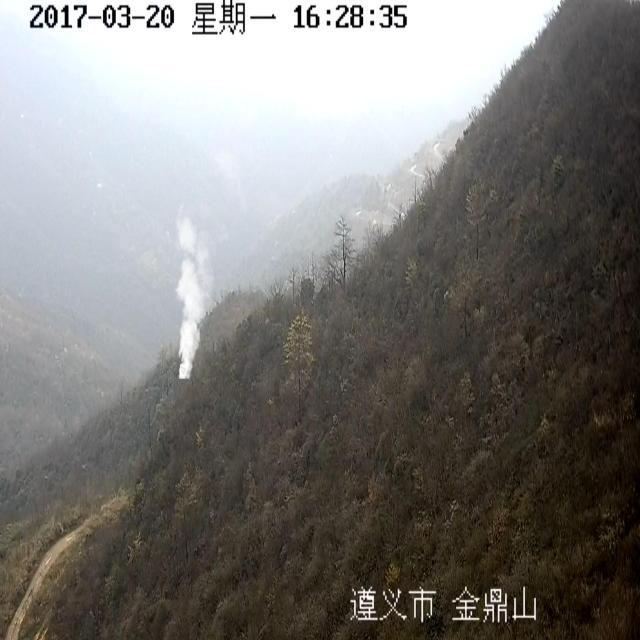Smoke: (178, 209, 213, 381)
